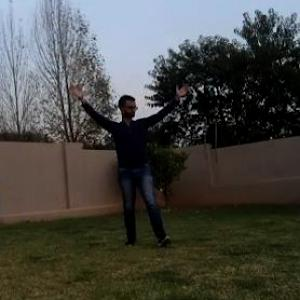takeoff: (69, 80, 203, 247)
